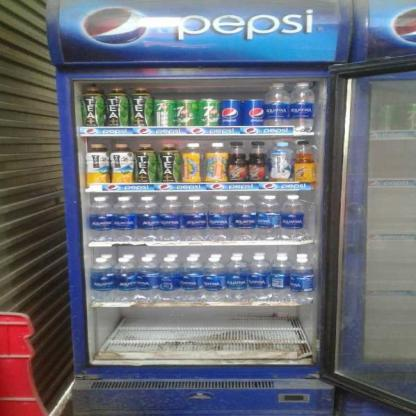7up: (196, 96, 223, 128), (174, 96, 200, 128), (150, 98, 178, 127)
aquafina: (182, 194, 209, 242), (201, 256, 228, 303), (278, 194, 306, 239), (136, 257, 162, 304), (290, 257, 315, 305), (89, 257, 116, 301), (289, 82, 314, 128), (111, 195, 136, 241), (157, 194, 182, 240), (86, 195, 110, 242), (225, 256, 249, 303), (269, 252, 291, 303), (209, 194, 232, 241), (235, 194, 258, 241), (181, 256, 204, 302), (264, 82, 288, 126), (248, 254, 270, 302), (256, 194, 278, 240), (160, 257, 182, 303), (115, 257, 137, 302), (136, 195, 158, 239)
goodmood: (269, 139, 292, 180)
olong-tea: (79, 84, 104, 126), (104, 84, 129, 125), (132, 141, 157, 182), (128, 84, 152, 126), (156, 142, 181, 181)
olong-teaplus: (82, 142, 110, 183), (110, 140, 132, 184)
pepsi-blue: (217, 95, 244, 128), (240, 96, 267, 128)
revive-chanhmuoi-chai: (202, 140, 227, 180), (181, 142, 202, 182)
sting-cafe-chai: (248, 139, 269, 180), (227, 138, 246, 181)
sting-yellow-chai: (293, 137, 316, 187)
